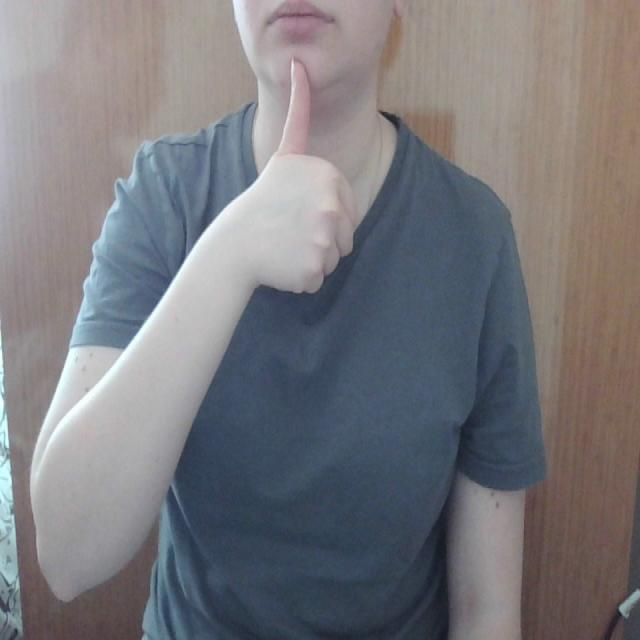Baba: (260, 0, 346, 138)
